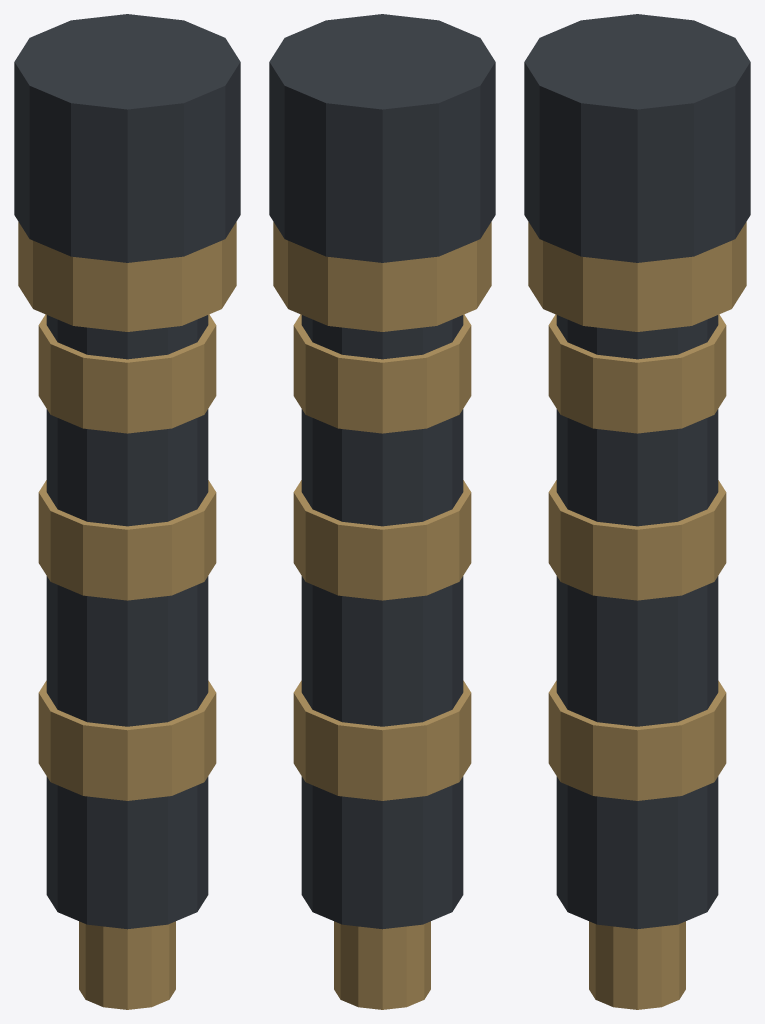
3 renders of one model, left to right at view 1: azimuth 30°, elevation 25°; view 2: azimuth 150°, elevation 25°; view 3: azimuth 270°, elevation 25°, orthographic.
Visible parts, largest first — view 1: TV-212 Port Surveyor; view 2: TV-212 Port Surveyor; view 3: TV-212 Port Surveyor.
Part boxes in pixels (box(x1,y1,x2,y2)): TV-212 Port Surveyor: box(14, 14, 240, 1009); TV-212 Port Surveyor: box(269, 14, 495, 1009); TV-212 Port Surveyor: box(524, 14, 750, 1009).
Size of the model in its own units: 0.0868 by 0.393 by 0.0868.
